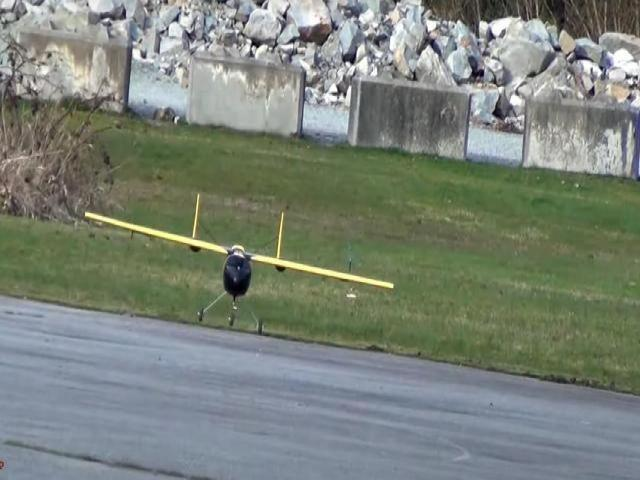iha: (79, 189, 390, 334)
